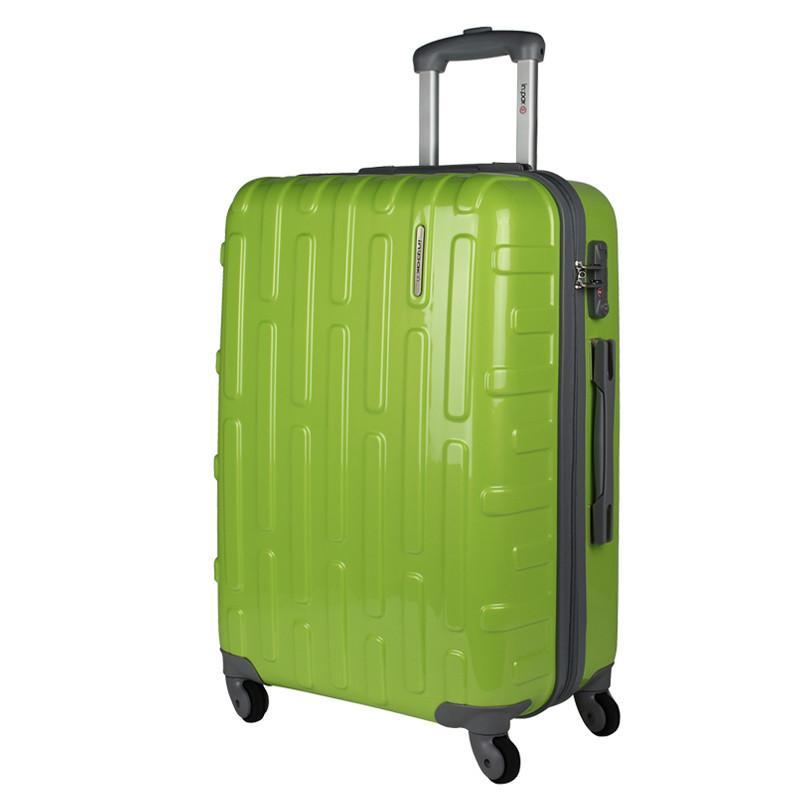suitcase: (209, 20, 624, 788)
